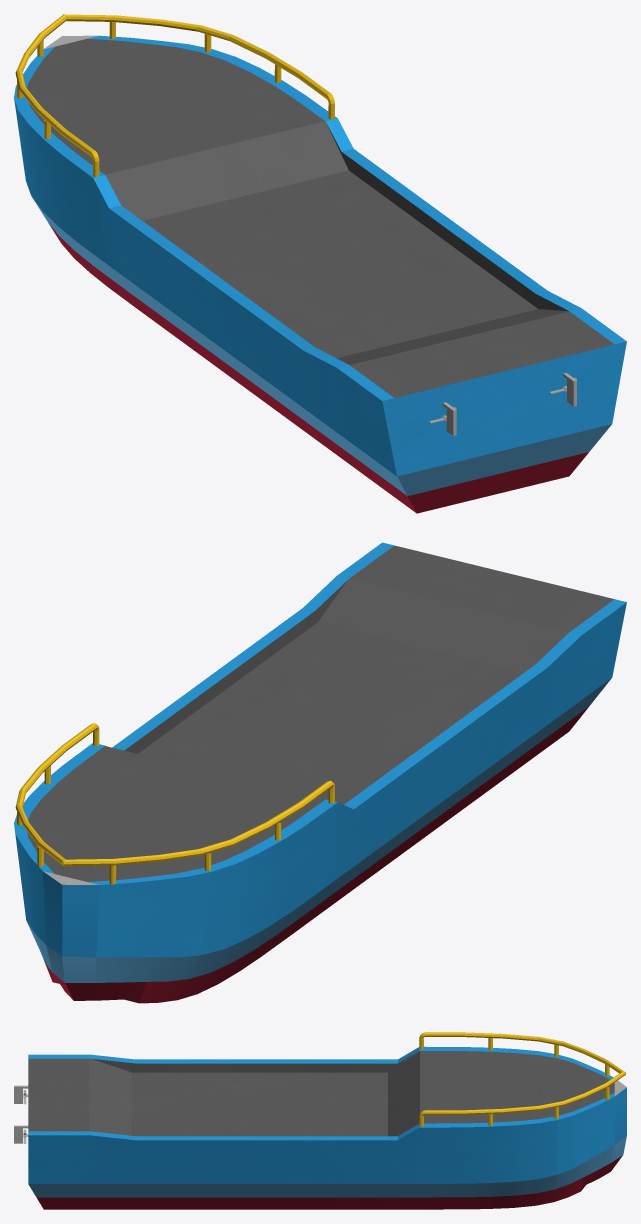
File: CARGO_SHIP_01.fbx
The picture shows the model from 3 angles, top to bottom: view 1: azimuth 30°, elevation 25°; view 2: azimuth 150°, elevation 25°; view 3: azimuth 270°, elevation 25°; orthographic projection. The views are drawn at different scales.
Parts seen in each view (by area): view 1: Hull; view 2: Hull; view 3: Hull.
Boxes of the visible parts, x1,y1,x2,y2 form: Hull: [14, 14, 626, 513]; Hull: [14, 542, 626, 1003]; Hull: [14, 1032, 626, 1209].
Size of the model in its own units: 1916 by 1249 by 6145.
1 material, 1 textured.
